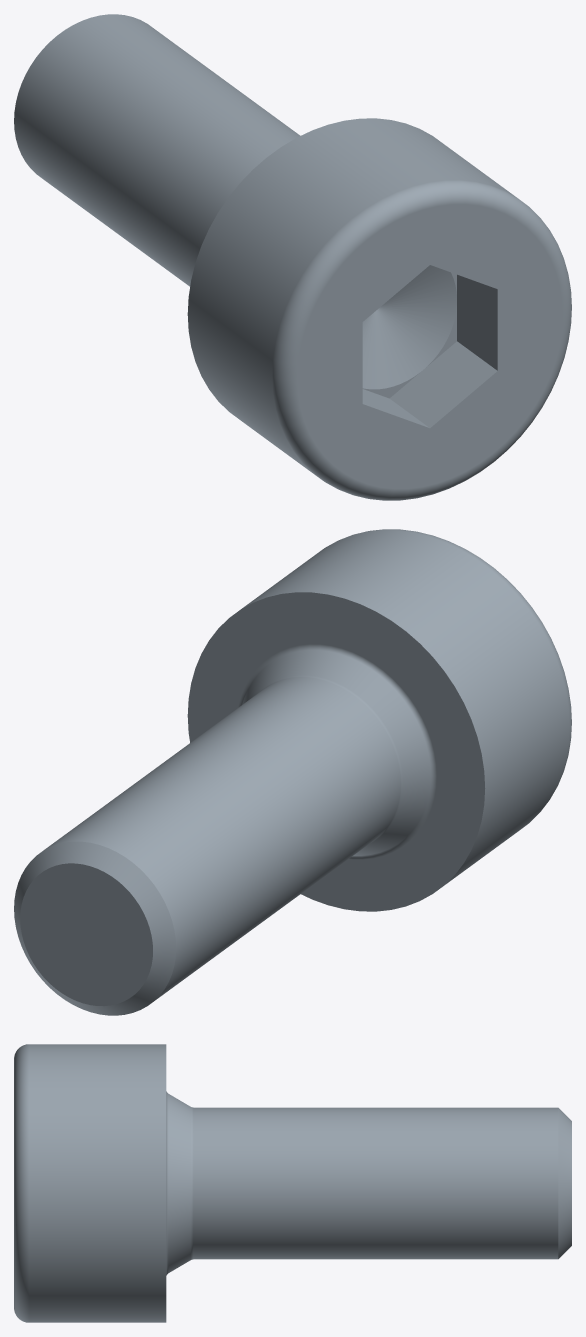
File: Hex_socket_head_cap_screw_M3x0_50_x_8.obj
The picture shows the model from 3 angles, top to bottom: view 1: azimuth 30°, elevation 25°; view 2: azimuth 150°, elevation 25°; view 3: azimuth 270°, elevation 25°; orthographic projection. The views are drawn at different scales.
Visible parts, largest first — view 1: mesh721, mesh728, mesh726, mesh727, mesh736, mesh734, mesh729, mesh733; view 2: mesh721, mesh726, mesh725, mesh719, mesh723, mesh720, mesh724, mesh727, mesh722; view 3: mesh721, mesh726, mesh727, mesh723, mesh720, mesh724, mesh722.
Part boxes in pixels (<box>): mesh721: <box>14,14,300,286</box>; mesh728: <box>297,204,562,488</box>; mesh726: <box>187,118,515,475</box>; mesh727: <box>272,180,571,500</box>; mesh736: <box>362,265,456,389</box>; mesh734: <box>390,341,497,427</box>; mesh729: <box>457,274,497,370</box>; mesh733: <box>362,389,428,427</box>; mesh721: <box>44,677,400,1000</box>; mesh726: <box>242,530,569,884</box>; mesh725: <box>187,592,485,911</box>; mesh719: <box>20,863,152,1006</box>; mesh723: <box>242,650,430,855</box>; mesh720: <box>14,841,176,1015</box>; mesh724: <box>238,644,436,859</box>; mesh727: <box>329,529,571,811</box>; mesh722: <box>259,675,402,843</box>; mesh721: <box>193,1107,558,1259</box>; mesh726: <box>29,1044,166,1322</box>; mesh727: <box>14,1044,29,1322</box>; mesh723: <box>168,1094,190,1272</box>; mesh720: <box>558,1108,571,1258</box>; mesh724: <box>166,1091,168,1275</box>; mesh722: <box>191,1107,193,1259</box>.
Bounding box in the file's own units: 0.0055 × 0.00549 × 0.011.
